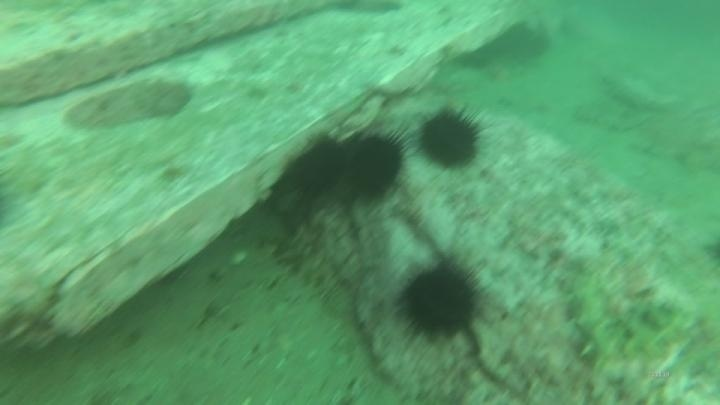echinus: (394, 251, 487, 346), (340, 126, 411, 203), (413, 102, 488, 174), (287, 131, 354, 202)
holothurian: (569, 288, 701, 375), (271, 208, 357, 315)
